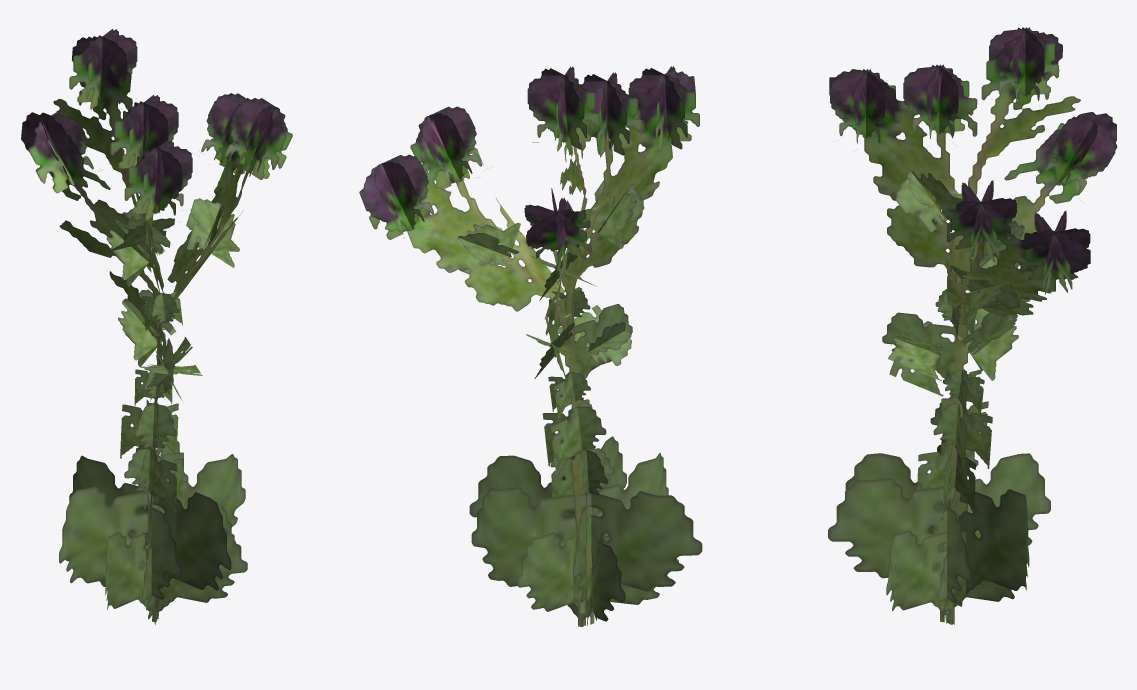
Rendered from Thistles.fbx.
3 views of the same model, side by side, from view 1: azimuth 30°, elevation 25°; view 2: azimuth 150°, elevation 25°; view 3: azimuth 270°, elevation 25° (orthographic). The views are drawn at different scales.
Parts seen in each view (by area): view 1: Thistles; view 2: Thistles; view 3: Thistles.
Boxes of the visible parts, <box> form: Thistles: <box>21,29,292,624</box>; Thistles: <box>359,66,702,626</box>; Thistles: <box>828,27,1117,624</box>.
Bounding box in the file's own units: 0.9727 × 1.67 × 0.8857.
Materials: 1 (1 with a texture image).
